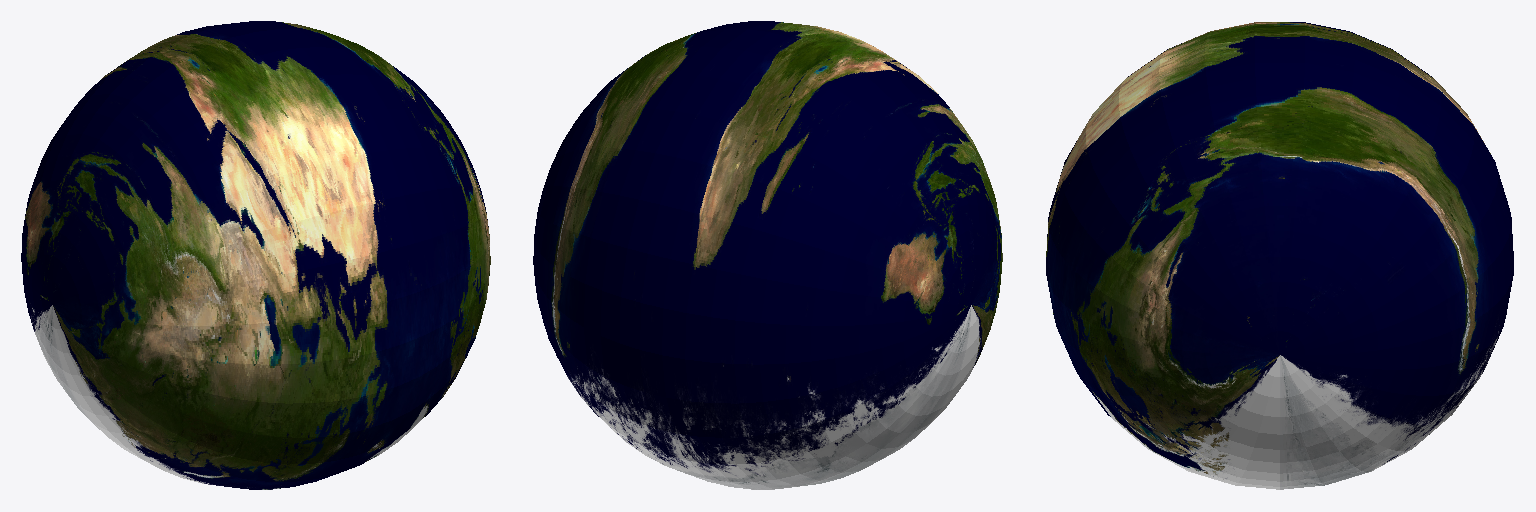
3 views of the same model, side by side, from view 1: azimuth 30°, elevation 25°; view 2: azimuth 150°, elevation 25°; view 3: azimuth 270°, elevation 25° (orthographic).
Visible parts, largest first — view 1: Grid_Grid.003; view 2: Grid_Grid.003; view 3: Grid_Grid.003.
Boxes of the visible parts, x1=… form: Grid_Grid.003: x1=21, y1=21, x2=490, y2=489; Grid_Grid.003: x1=533, y1=21, x2=1002, y2=489; Grid_Grid.003: x1=1046, y1=22, x2=1513, y2=489.
Bounding box in the file's own units: 2 × 1.99 × 1.99.
Materials: 1 (1 with a texture image).